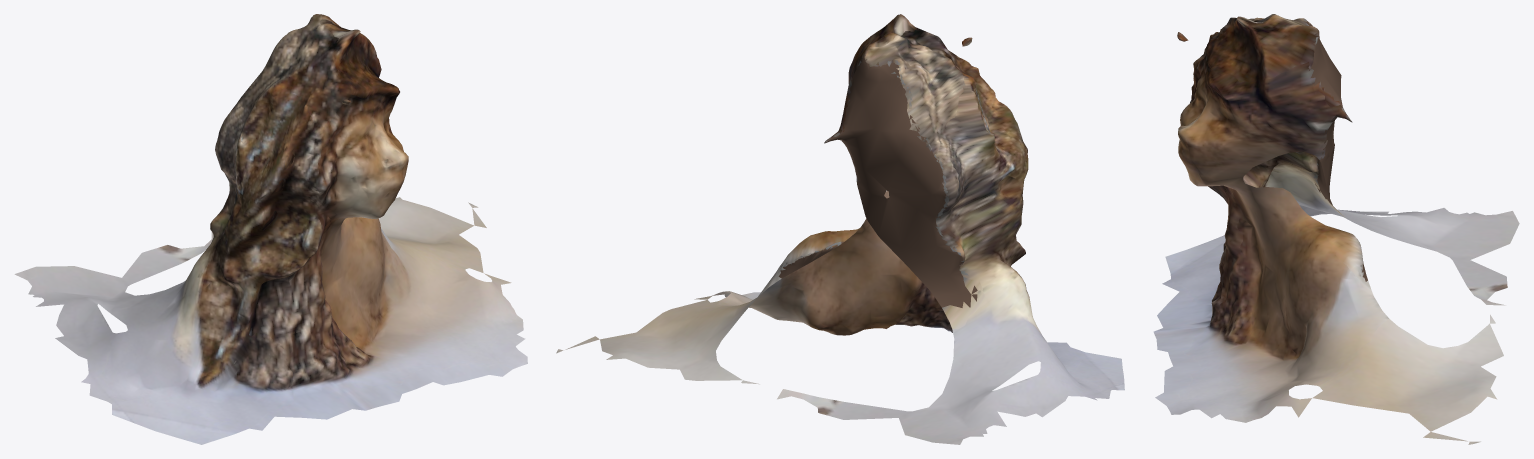
Rendered from sadLady.obj.
3 renders of one model, left to right at view 1: azimuth 30°, elevation 25°; view 2: azimuth 150°, elevation 25°; view 3: azimuth 270°, elevation 25°, orthographic. The views are drawn at different scales.
Bounding box in the file's own units: 23 × 15.54 × 15.51.
2 materials, 2 textured.
